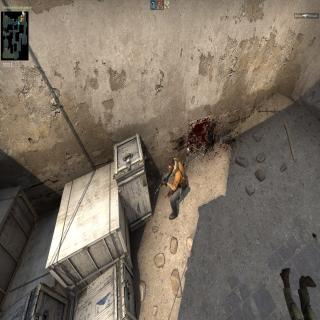T-Head: (167, 156, 175, 173)
